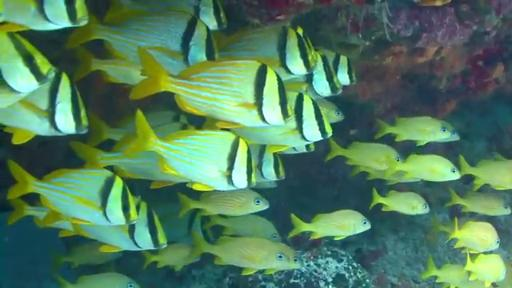Fish: (130, 48, 291, 127), (126, 111, 255, 190), (8, 160, 137, 225), (67, 11, 217, 64), (0, 71, 88, 144), (231, 92, 332, 151), (60, 200, 167, 252), (70, 142, 188, 187), (219, 25, 319, 78), (193, 233, 301, 275), (0, 32, 55, 92), (118, 0, 227, 30), (75, 47, 145, 85), (0, 0, 88, 30), (286, 52, 342, 99), (376, 116, 459, 146), (288, 210, 371, 239), (325, 139, 402, 170), (178, 189, 269, 215), (204, 215, 281, 242), (8, 199, 71, 230), (386, 155, 460, 181), (460, 156, 511, 190), (449, 218, 500, 252), (56, 241, 122, 267), (445, 189, 511, 215), (370, 188, 429, 215), (88, 113, 135, 146), (142, 244, 198, 271), (319, 48, 356, 85), (465, 254, 506, 287), (421, 256, 467, 285), (250, 144, 285, 181), (351, 166, 421, 184), (56, 272, 139, 287), (0, 76, 28, 108), (315, 99, 344, 123), (278, 143, 315, 154), (414, 0, 451, 6), (252, 181, 277, 188)
